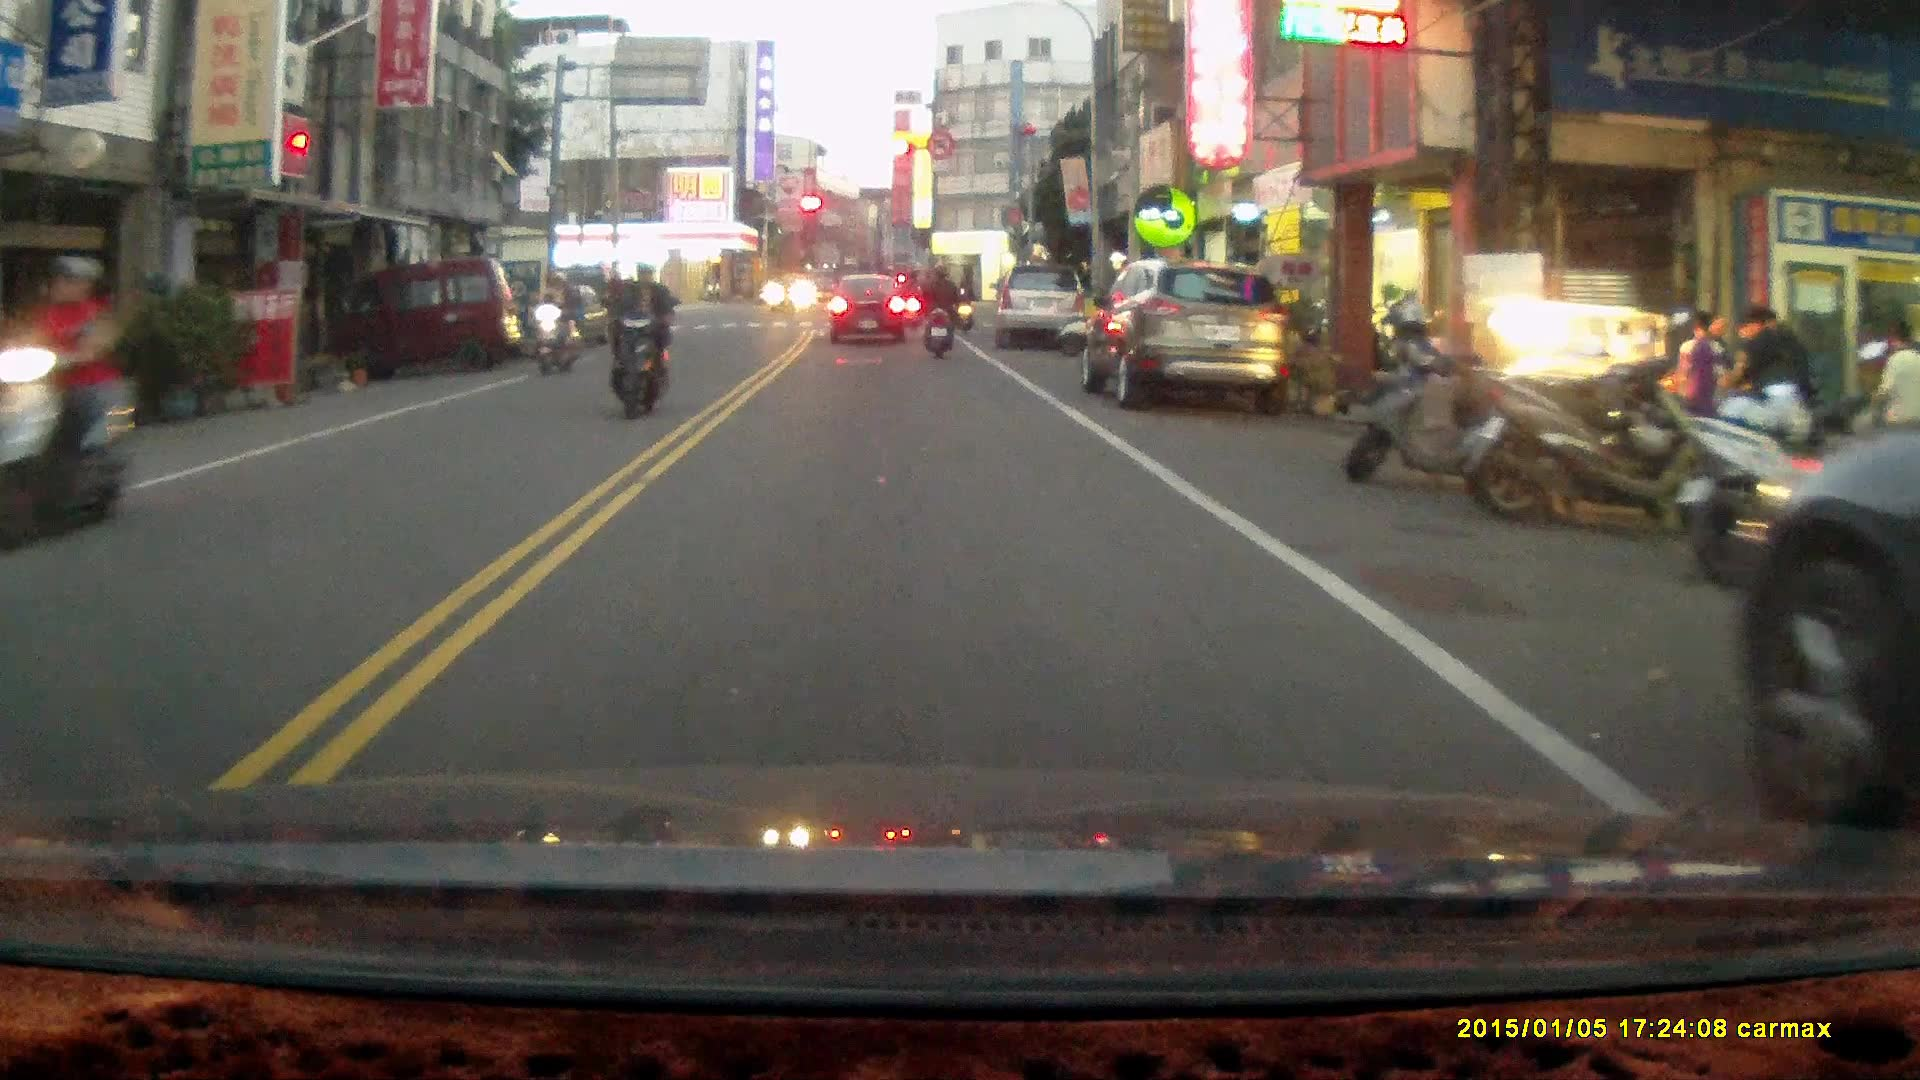pedestrian: (1737, 308, 1805, 468), (1869, 320, 1920, 476), (1676, 307, 1727, 460)
rider: (0, 252, 137, 548), (597, 261, 673, 421), (530, 268, 584, 379), (915, 261, 959, 360), (897, 266, 923, 326), (953, 273, 977, 336)
vehicle: (1743, 451, 1920, 827), (1082, 262, 1295, 417), (321, 261, 524, 384), (1000, 265, 1088, 352)
